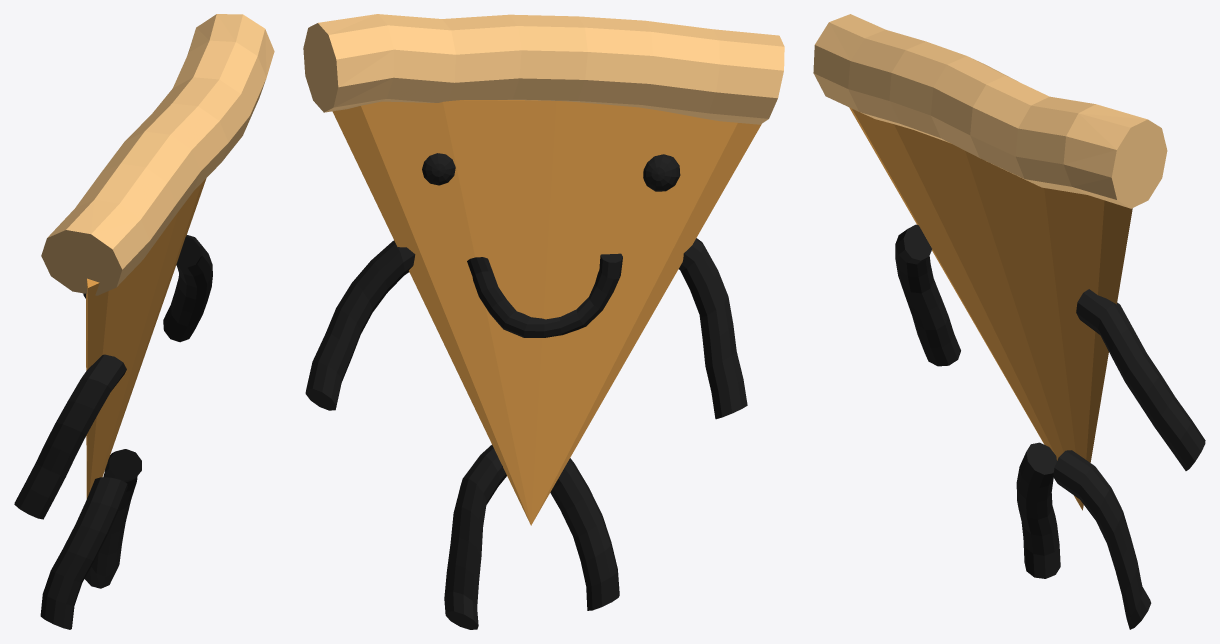
The model's file is Pizza Steve.glb.
3 views of the same model, side by side, from view 1: azimuth 30°, elevation 25°; view 2: azimuth 150°, elevation 25°; view 3: azimuth 270°, elevation 25° (orthographic). The views are drawn at different scales.
Parts seen in each view (by area): view 1: group1887455588, group43229567, group327678314, group894658563, group2098226619, group566957061; view 2: group43229567, group1887455588, group2098226619, group566957061, group327678314, group894658563, group1559867764, group868450938, group815804460; view 3: group43229567, group1887455588, group2098226619, group566957061, group327678314, group894658563.
Boxes of the visible parts, box(x1,y1,x2,y2) form: group1887455588: box(41, 14, 274, 295); group43229567: box(86, 178, 206, 498); group327678314: box(14, 354, 126, 519); group894658563: box(40, 477, 127, 629); group2098226619: box(163, 235, 212, 342); group566957061: box(84, 449, 141, 588); group43229567: box(332, 100, 761, 525); group1887455588: box(303, 14, 784, 124); group2098226619: box(305, 240, 415, 410); group566957061: box(444, 445, 506, 629); group327678314: box(679, 238, 747, 419); group894658563: box(550, 458, 619, 610); group1559867764: box(467, 253, 622, 337); group868450938: box(643, 154, 680, 191); group815804460: box(422, 153, 455, 185); group43229567: box(849, 107, 1132, 510); group1887455588: box(813, 14, 1167, 208); group2098226619: box(1076, 289, 1205, 470); group566957061: box(1054, 450, 1151, 629); group327678314: box(895, 224, 960, 366); group894658563: box(1016, 442, 1060, 578).
Bounding box in the file's own units: 0.9127 × 1.38 × 0.8554.
